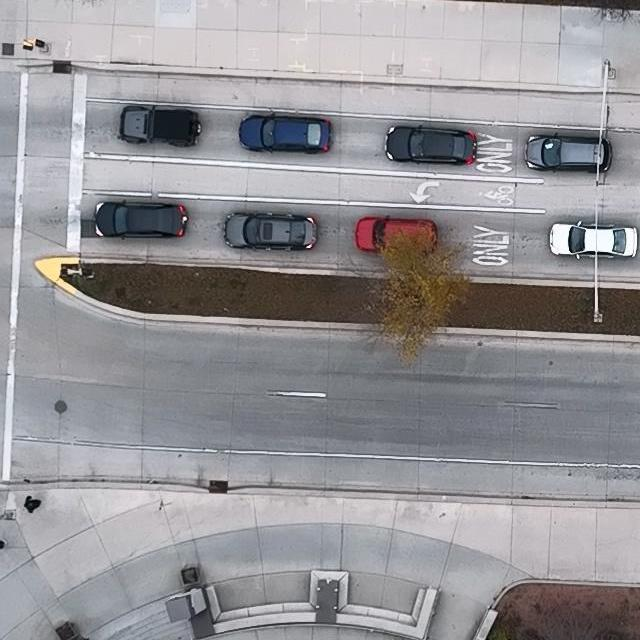car: (238, 111, 332, 153), (524, 131, 613, 175), (93, 200, 189, 240), (222, 212, 318, 252), (548, 219, 639, 261), (384, 125, 477, 164), (118, 104, 201, 147), (355, 215, 437, 255)
